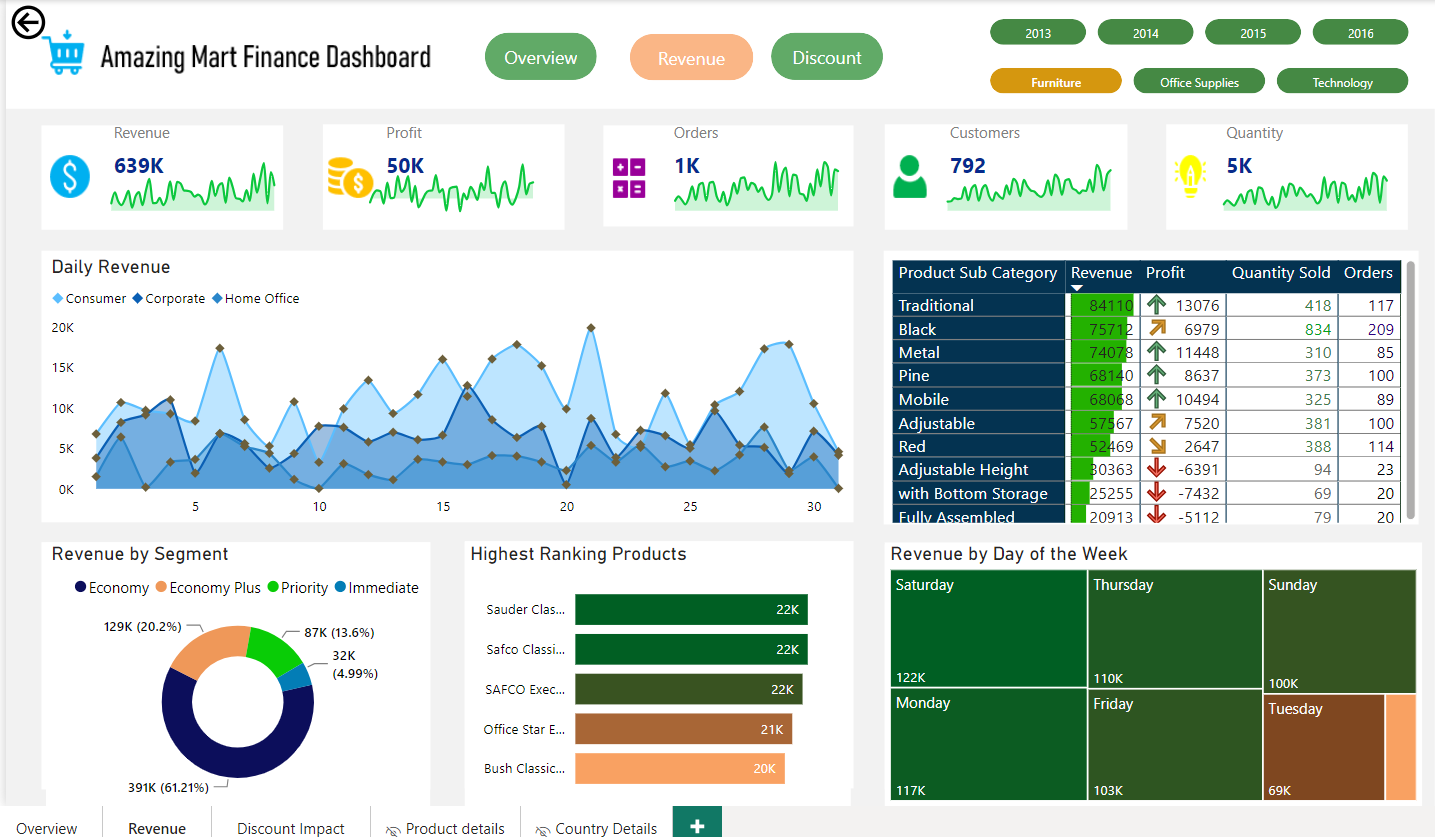

Layout of this report page (visuals, bound fields, positions):
{"tool":"powerbi","page":{"name":"Revenue","canvas":[1280,720],"ordinal":1},"visuals":[{"type":"actionButton","box":[0,0,100,40],"z":0},{"type":"lineChart","title":"Daily Revenue","fields":{"Category":["ListOfOrders.Order Date.Variation.Date Hierarchy.Day"],"Y":["OrderBreakdown.Total Sales"],"Series":["ListOfOrders.Segment"]},"box":[35.7,227.8,723.2,242.9],"z":1000},{"type":"clusteredBarChart","title":"Highest Ranking Products","fields":{"Category":["OrderBreakdown.Product Name"],"Y":["OrderBreakdown.Total Sales"]},"box":[410.3,484.4,344.4,236],"z":2000},{"type":"actionButton","box":[428.1,28.8,100.2,42.5],"z":3000},{"type":"actionButton","box":[557,30.2,110.5,41.9],"z":4000},{"type":"actionButton","box":[683.4,28.8,100.2,42.5],"z":5000},{"type":"pivotTable","title":" Revenue by City","fields":{"Rows":["OrderBreakdown.Product Sub Category"],"Values":["OrderBreakdown.Revenue","OrderBreakdown.Profit","OrderBreakdown.Quantity Sold","ListOfOrders.Orders"]},"box":[787.2,227.8,476.8,244.5],"z":6000},{"type":"waterfallChart","title":"Revenue by Day of the Week","fields":{"Category":["ListOfOrders.Day of week"],"Y":["OrderBreakdown.Revenue"]},"box":[783.5,484.4,480.3,236],"z":7000},{"type":"stackedAreaChart","fields":{"Category":["ListOfOrders.Order Date.Variation.Date Hierarchy.Year","ListOfOrders.Order Date.Variation.Date Hierarchy.Month"],"Y":["OrderBreakdown.Profit"]},"box":[310.1,122.1,175.6,78.2],"z":8000},{"type":"cardVisual","fields":{"Data":["OrderBreakdown.Revenue"]},"box":[79.6,97.4,175.6,101.5],"z":9000},{"type":"stackedAreaChart","fields":{"Category":["ListOfOrders.Order Date.Variation.Date Hierarchy.Year","ListOfOrders.Order Date.Variation.Date Hierarchy.Month"],"Y":["OrderBreakdown.Revenue"]},"box":[79.6,120.8,175.6,78.2],"z":10000},{"type":"stackedAreaChart","fields":{"Category":["ListOfOrders.Order Date.Variation.Date Hierarchy.Year","ListOfOrders.Order Date.Variation.Date Hierarchy.Month"],"Y":["ListOfOrders.Orders"]},"box":[583.2,120.8,175.6,78.2],"z":11000},{"type":"stackedAreaChart","fields":{"Category":["ListOfOrders.Order Date.Variation.Date Hierarchy.Year","ListOfOrders.Order Date.Variation.Date Hierarchy.Month"],"Y":["ListOfOrders.Customers"]},"box":[826.1,120.8,175.6,78.2],"z":12000},{"type":"stackedAreaChart","fields":{"Category":["ListOfOrders.Order Date.Variation.Date Hierarchy.Year","ListOfOrders.Order Date.Variation.Date Hierarchy.Month"],"Y":["Sum(OrderBreakdown.Quantity)"]},"box":[1073.1,120.8,175.6,78.2],"z":13000},{"type":"cardVisual","fields":{"Data":["Sum(OrderBreakdown.Quantity)"]},"box":[1073.1,97.4,175.6,101.5],"z":14000},{"type":"cardVisual","fields":{"Data":["ListOfOrders.Customers"]},"box":[826.1,97.4,175.6,101.5],"z":15000},{"type":"cardVisual","fields":{"Data":["ListOfOrders.Orders"]},"box":[579,97.3,175.6,102],"z":16000},{"type":"cardVisual","fields":{"Data":["OrderBreakdown.Profit"]},"box":[322.5,97.4,175.6,101.5],"z":17000},{"type":"advancedSlicerVisual","fields":{"Values":["ListOfOrders.Order Date.Variation.Date Hierarchy.Year"]},"box":[854.7,12.8,425.6,33.7],"z":18000},{"type":"advancedSlicerVisual","fields":{"Values":["OrderBreakdown.Category"]},"box":[854.7,55.8,425.6,33.7],"z":19000},{"type":"donutChart","title":"Revenue by Segment ","fields":{"Category":["ListOfOrders.Ship Mode"],"Y":["Sum(OrderBreakdown.Sales)"]},"box":[35.7,484.4,343.1,236],"z":20000}]}

Visuals, with their boxes on the page's 1280x720 design canvas (x1, y1, x2, y2). These are canvas units, not pixel positions in the 1435x837 screenshot, which may show the page scaled, cropped or inside an application window:
actionButton: left=0, top=0, right=100, bottom=40
"Daily Revenue" lineChart: left=36, top=228, right=759, bottom=471
"Highest Ranking Products" clusteredBarChart: left=410, top=484, right=755, bottom=720
actionButton: left=428, top=29, right=528, bottom=71
actionButton: left=557, top=30, right=668, bottom=72
actionButton: left=683, top=29, right=784, bottom=71
" Revenue by City" pivotTable: left=787, top=228, right=1264, bottom=472
"Revenue by Day of the Week" waterfallChart: left=784, top=484, right=1264, bottom=720
stackedAreaChart - ListOfOrders.Order Date.Variation.Date Hierarchy.Year x ListOfOrders.Order Date.Variation.Date Hierarchy.Month: left=310, top=122, right=486, bottom=200
cardVisual - OrderBreakdown.Revenue: left=80, top=97, right=255, bottom=199
stackedAreaChart - ListOfOrders.Order Date.Variation.Date Hierarchy.Year x ListOfOrders.Order Date.Variation.Date Hierarchy.Month: left=80, top=121, right=255, bottom=199
stackedAreaChart - ListOfOrders.Order Date.Variation.Date Hierarchy.Year x ListOfOrders.Order Date.Variation.Date Hierarchy.Month: left=583, top=121, right=759, bottom=199
stackedAreaChart - ListOfOrders.Order Date.Variation.Date Hierarchy.Year x ListOfOrders.Order Date.Variation.Date Hierarchy.Month: left=826, top=121, right=1002, bottom=199
stackedAreaChart - ListOfOrders.Order Date.Variation.Date Hierarchy.Year x ListOfOrders.Order Date.Variation.Date Hierarchy.Month: left=1073, top=121, right=1249, bottom=199
cardVisual - Sum(OrderBreakdown.Quantity): left=1073, top=97, right=1249, bottom=199
cardVisual - ListOfOrders.Customers: left=826, top=97, right=1002, bottom=199
cardVisual - ListOfOrders.Orders: left=579, top=97, right=755, bottom=199
cardVisual - OrderBreakdown.Profit: left=322, top=97, right=498, bottom=199
advancedSlicerVisual - ListOfOrders.Order Date.Variation.Date Hierarchy.Year: left=855, top=13, right=1280, bottom=46
advancedSlicerVisual - OrderBreakdown.Category: left=855, top=56, right=1280, bottom=90
"Revenue by Segment " donutChart: left=36, top=484, right=379, bottom=720
